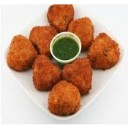cutlet: (7, 33, 39, 70), (89, 30, 120, 67), (51, 80, 80, 116), (65, 60, 96, 92), (33, 58, 61, 91), (29, 23, 56, 54), (48, 2, 75, 29), (69, 19, 96, 46)
